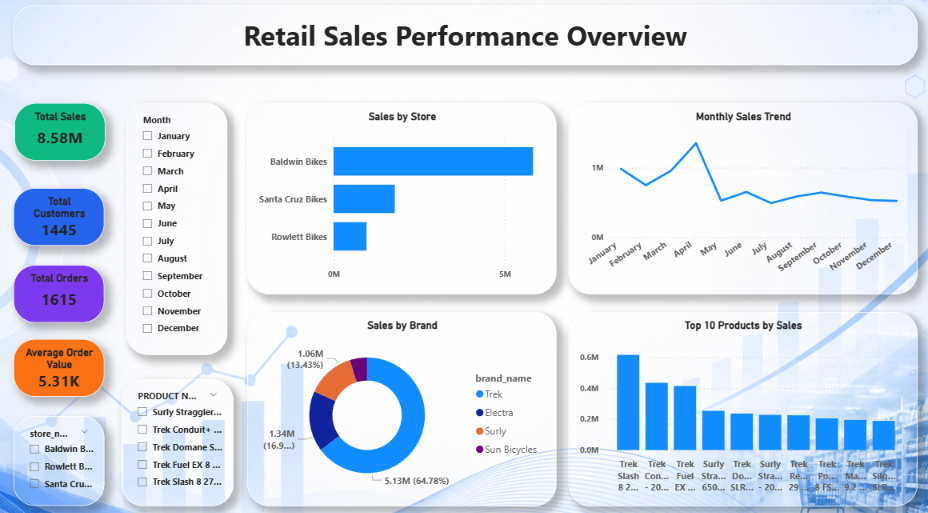

This screenshot's page, from the dashboard's own definition file:
{"tool":"powerbi","page":{"name":"Executive Sales Dashboard","canvas":[1280,720],"ordinal":0},"visuals":[{"type":"card","title":"Total Sales","fields":{"Values":["customer_segments.Total Sales"]},"box":[22,146.8,124.9,79.6],"z":0},{"type":"card","title":"Average Order Value","fields":{"Values":["customer_segments.Average Order Value"]},"box":[20.6,470.7,124.9,79.6],"z":1000},{"type":"card","title":"Total Customers","fields":{"Values":["customer_segments.Total Customers"]},"box":[20.6,263.5,124.9,79.6],"z":2000},{"type":"card","title":"Total Orders","fields":{"Values":["customer_segments.Total Orders"]},"box":[20.6,369.1,124.9,79.6],"z":3000},{"type":"lineChart","title":"Monthly Sales Trend","fields":{"Y":["customer_segments.Total Sales"],"Category":["orders.order_date.Variation.Date Hierarchy.Month"]},"box":[782.2,146.8,478.9,262.1],"z":4000},{"type":"clusteredBarChart","title":"Sales by Store","fields":{"Y":["customer_segments.Total Sales"],"Category":["stores.store_name"]},"box":[341.7,146.8,424,262.1],"z":5000},{"type":"clusteredColumnChart","title":"Top 10 Products by Sales","fields":{"Y":["customer_segments.Total Sales"],"Category":["products.product_name"]},"box":[782.2,433.6,478.9,266.2],"z":6000},{"type":"donutChart","title":"Sales by Brand","fields":{"Y":["customer_segments.Total Sales"],"Category":["brands.brand_name"]},"box":[341.7,433.6,424,266.2],"z":7000},{"type":"slicer","fields":{"Values":["orders.order_date.Variation.Date Hierarchy.Month"]},"box":[175.6,146.8,138.6,345.8],"z":8000},{"type":"slicer","fields":{"Values":["stores.store_name"]},"box":[20.6,576.3,124.9,123.5],"z":9000},{"type":"slicer","fields":{"Values":["products.product_name"]},"box":[168.8,525.6,153.7,174.3],"z":10000},{"type":"textbox","box":[20.6,12.3,1240.5,82.3],"z":11000}]}

Visuals, with their boxes in screenshot pixels (x1, y1, x2, y2), scaled from the page's 1280x720 canvas onto the 928x513 screenshot:
"Total Sales" card: <box>16,105,107,161</box>
"Average Order Value" card: <box>15,335,105,392</box>
"Total Customers" card: <box>15,188,105,244</box>
"Total Orders" card: <box>15,263,105,320</box>
"Monthly Sales Trend" lineChart: <box>567,105,914,291</box>
"Sales by Store" clusteredBarChart: <box>248,105,555,291</box>
"Top 10 Products by Sales" clusteredColumnChart: <box>567,309,914,499</box>
"Sales by Brand" donutChart: <box>248,309,555,499</box>
slicer - orders.order_date.Variation.Date Hierarchy.Month: <box>127,105,228,351</box>
slicer - stores.store_name: <box>15,411,105,499</box>
slicer - products.product_name: <box>122,374,234,499</box>
textbox: <box>15,9,914,67</box>
